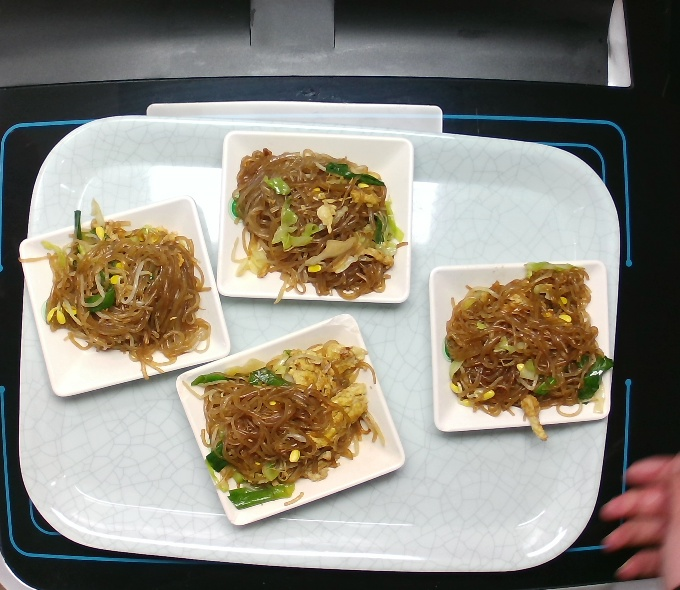wcq-FenSiChaoDan: (16, 194, 216, 386), (180, 336, 391, 513), (441, 259, 623, 447), (224, 137, 411, 311)
